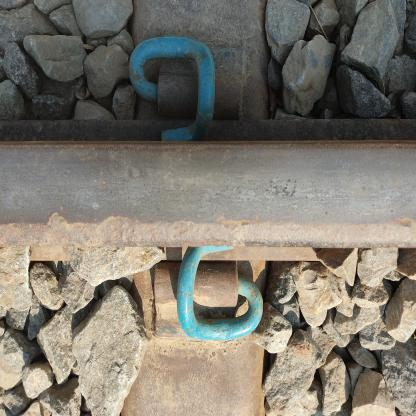Non Defective 1: (184, 239, 308, 381), (152, 30, 266, 170)
